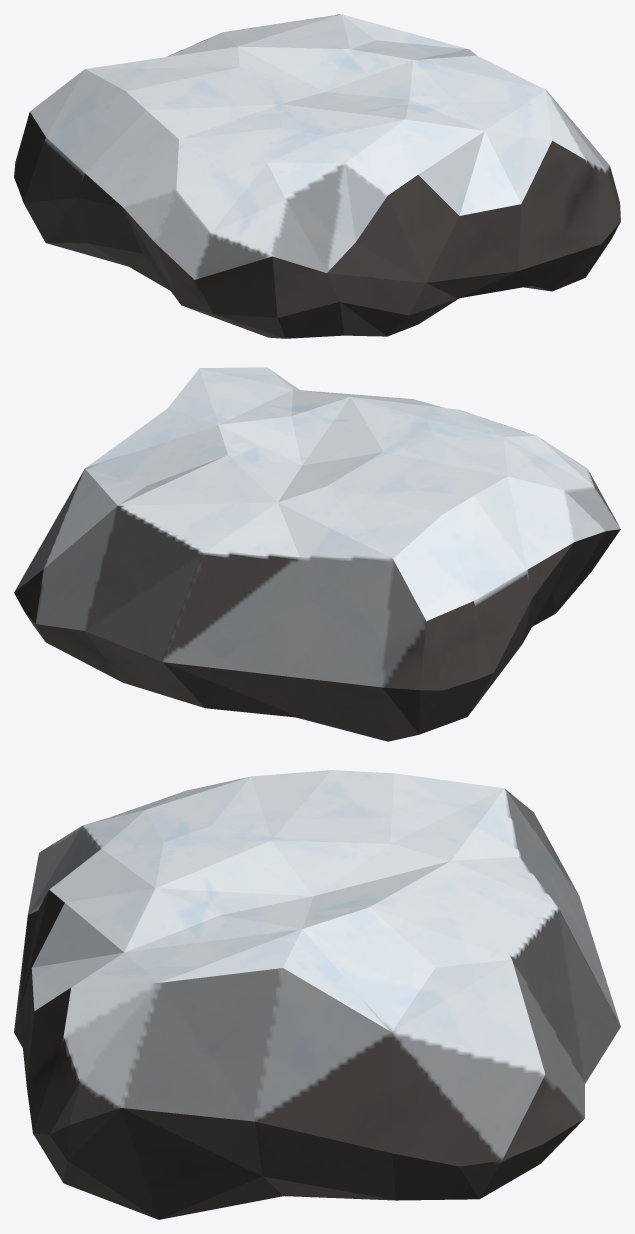
File: mound_03.gltf
The picture shows the model from 3 angles, top to bottom: view 1: azimuth 30°, elevation 25°; view 2: azimuth 150°, elevation 25°; view 3: azimuth 270°, elevation 25°; orthographic projection. The views are drawn at different scales.
Parts seen in each view (by area): view 1: mound_03; view 2: mound_03; view 3: mound_03.
Part boxes in pixels (x1,y1,x2,y2): mound_03: (14, 14, 620, 338); mound_03: (14, 367, 620, 741); mound_03: (14, 770, 620, 1219).
Bounding box in the file's own units: 1.38 × 0.615 × 1.29.
1 material, 1 textured.
